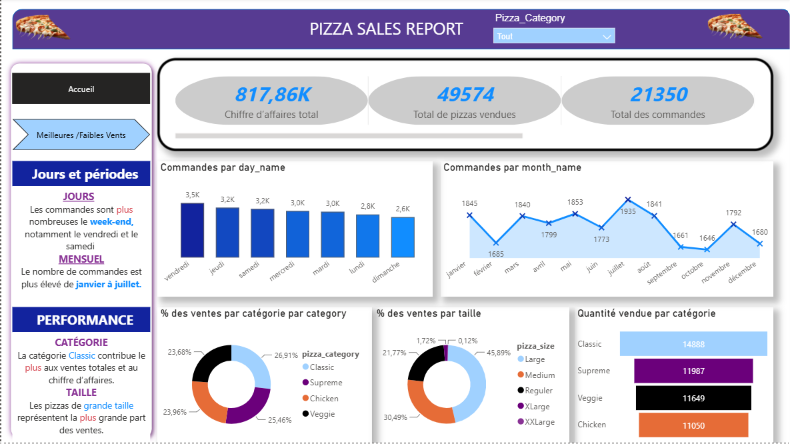

The dashboard page shown, as its layout file describes it:
{"tool":"powerbi","page":{"name":"Accueil","canvas":[1280,720],"ordinal":0},"visuals":[{"type":"cardVisual","fields":{"Data":["pizza_sales.Total Revenue","pizza_sales.Total pizza sold","pizza_sales.TOTAL ORDERS","pizza_sales.avg pizza per order","pizza_sales.avg Order value"]},"box":[252.6,97.2,997.4,150.6],"z":0},{"type":"shape","box":[17.2,17.2,1262.3,65.3],"z":1000},{"type":"textbox","box":[485.8,25.9,275.3,48.6],"z":2000},{"type":"image","box":[1127,0,123.1,97.2],"z":3000},{"type":"image","box":[6.5,1.6,123.1,97.2],"z":4000},{"type":"columnChart","title":"Commandes par  day_name","fields":{"Category":["pizza_sales.day_name"],"Y":["pizza_sales.TOTAL ORDERS"]},"box":[252.6,263.9,445.3,220.2],"z":5000},{"type":"areaChart","title":"Commandes par month_name","fields":{"Category":["pizza_sales.month_name"],"Y":["pizza_sales.TOTAL ORDERS"]},"box":[710.8,263.9,539.2,220.2],"z":6000},{"type":"donutChart","title":"% des ventes par catégorie par  category","fields":{"Category":["pizza_sales.pizza_category"],"Y":["pizza_sales.Total Revenue"]},"box":[252.6,500.3,348.1,220.2],"z":7000},{"type":"donutChart","title":"% des ventes par taille ","fields":{"Y":["pizza_sales.Total Revenue"],"Category":["pizza_sales.pizza_size"]},"box":[602.4,500.3,317.4,220.2],"z":8000},{"type":"funnel","title":"Quantité vendue par catégorie","fields":{"Category":["pizza_sales.pizza_category"],"Y":["pizza_sales.Total pizza sold"]},"box":[927.8,500.3,322.2,220.2],"z":9000},{"type":"shape","box":[6.5,97.2,246.1,623.4],"z":10000},{"type":"textbox","box":[17.8,263.9,223.5,40.5],"z":11000},{"type":"textbox","box":[17.8,304.4,223.5,179.7],"z":12000},{"type":"textbox","box":[17.8,500.3,223.5,40.5],"z":13000},{"type":"textbox","box":[17.8,540.8,223.5,179.7],"z":14000},{"type":"slicer","title":"Pizza_Category","fields":{"Values":["pizza_sales.pizza_category"]},"box":[786.6,17.2,216.4,65.3],"z":15000},{"type":"pageNavigator","box":[17.7,121.5,223.2,50.8],"z":16000},{"type":"pageNavigator","box":[17.7,196.6,223.2,50.8],"z":17000}]}

Visuals, with their boxes in screenshot pixels (x1, y1, x2, y2), scaled from the page's 1280x720 canvas onto the 790x444 screenshot:
cardVisual - pizza_sales.Total Revenue x pizza_sales.Total pizza sold: box(156, 60, 771, 153)
shape: box(11, 11, 789, 51)
textbox: box(300, 16, 470, 46)
image: box(696, 0, 772, 60)
image: box(4, 1, 80, 61)
"Commandes par  day_name" columnChart: box(156, 163, 431, 299)
"Commandes par month_name" areaChart: box(439, 163, 771, 299)
"% des ventes par catégorie par  category" donutChart: box(156, 309, 371, 443)
"% des ventes par taille " donutChart: box(372, 309, 568, 443)
"Quantité vendue par catégorie" funnel: box(573, 309, 771, 443)
shape: box(4, 60, 156, 443)
textbox: box(11, 163, 149, 188)
textbox: box(11, 188, 149, 299)
textbox: box(11, 309, 149, 333)
textbox: box(11, 333, 149, 443)
"Pizza_Category" slicer: box(485, 11, 619, 51)
pageNavigator: box(11, 75, 149, 106)
pageNavigator: box(11, 121, 149, 153)
